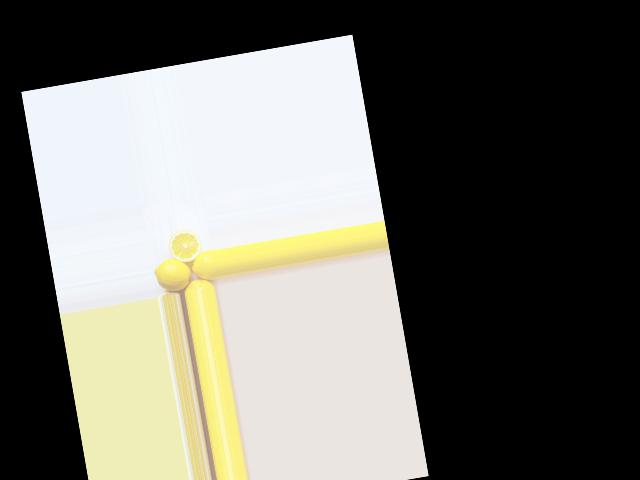lemon: (189, 250, 216, 280)
